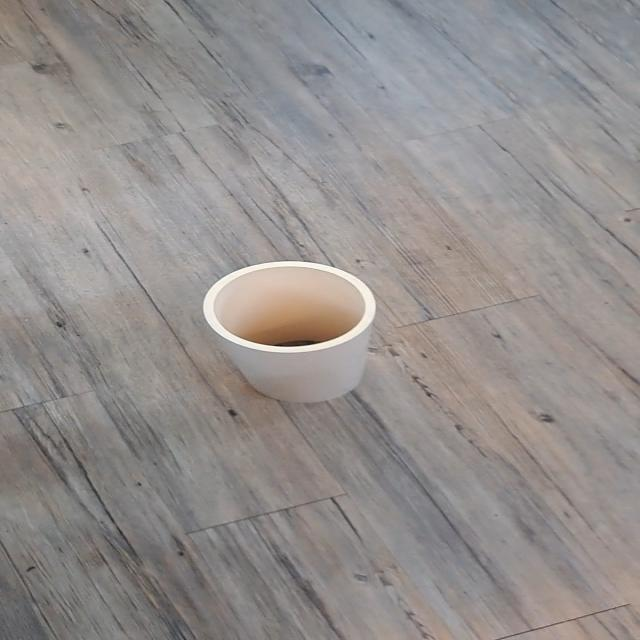CORAL: (188, 245, 404, 429)
